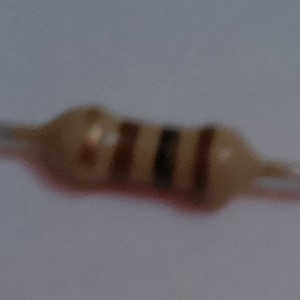black_band: (148, 123, 183, 193)
brown_band: (188, 123, 218, 203), (108, 119, 141, 186)
gold_band: (77, 103, 105, 193)
